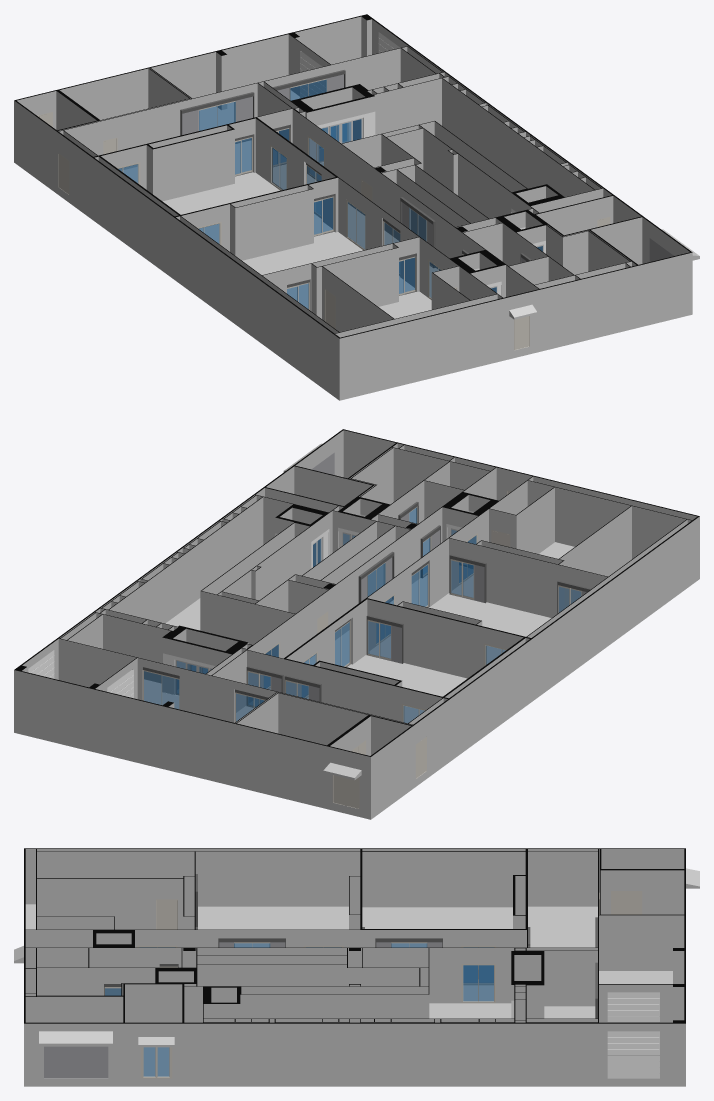
3 views of the same model, one above another, from view 1: azimuth 30°, elevation 25°; view 2: azimuth 150°, elevation 25°; view 3: azimuth 270°, elevation 25° (orthographic).
Parts seen in each view (by area): view 1: V5동_1F_벽, V5동_1F_바닥, V5동_1F_자동문, V5동_1F_슬라이딩도어, V5동_1F_유리문, V5동_1F_방화문, V5동_1F_에어샤워도어, V5동_1F_장비반입구; view 2: V5동_1F_벽, V5동_1F_바닥, V5동_1F_슬라이딩도어, V5동_1F_자동문, V5동_1F_방화문, V5동_1F_에어샤워도어, V5동_1F_유리문, V5동_1F_장비반입구; view 3: V5동_1F_벽, V5동_1F_바닥, V5동_1F_장비반입구, V5동_1F_유리문, V5동_1F_화물용승강기, V5동_1F_자동문, V5동_1F_방화문.
Part boxes in pixels (box(x1,y1,x2,y2)): V5동_1F_벽: box(14, 14, 699, 400); V5동_1F_바닥: box(121, 90, 438, 318); V5동_1F_자동문: box(180, 70, 531, 275); V5동_1F_슬라이딩도어: box(235, 124, 416, 309); V5동_1F_유리문: box(117, 135, 620, 299); V5동_1F_방화문: box(37, 112, 610, 350); V5동_1F_에어샤워도어: box(309, 111, 545, 296); V5동_1F_장비반입구: box(300, 32, 400, 97); V5동_1F_벽: box(14, 429, 699, 819); V5동_1F_바닥: box(144, 508, 574, 723); V5동_1F_슬라이딩도어: box(246, 554, 591, 707); V5동_1F_자동문: box(142, 502, 440, 722); V5동_1F_방화문: box(317, 490, 572, 808); V5동_1F_에어샤워도어: box(163, 510, 476, 696); V5동_1F_유리문: box(263, 533, 507, 723); V5동_1F_장비반입구: box(28, 650, 133, 698); V5동_1F_벽: box(14, 848, 699, 1086); V5동_1F_바닥: box(25, 904, 672, 1076); V5동_1F_장비반입구: box(607, 992, 659, 1078); V5동_1F_유리문: box(137, 945, 495, 1078); V5동_1F_화물용승강기: box(44, 1046, 108, 1078); V5동_1F_자동문: box(104, 917, 597, 1018); V5동_1F_방화문: box(156, 891, 642, 929).
Size of the model in its own units: 24.79 by 4 by 39.37.
